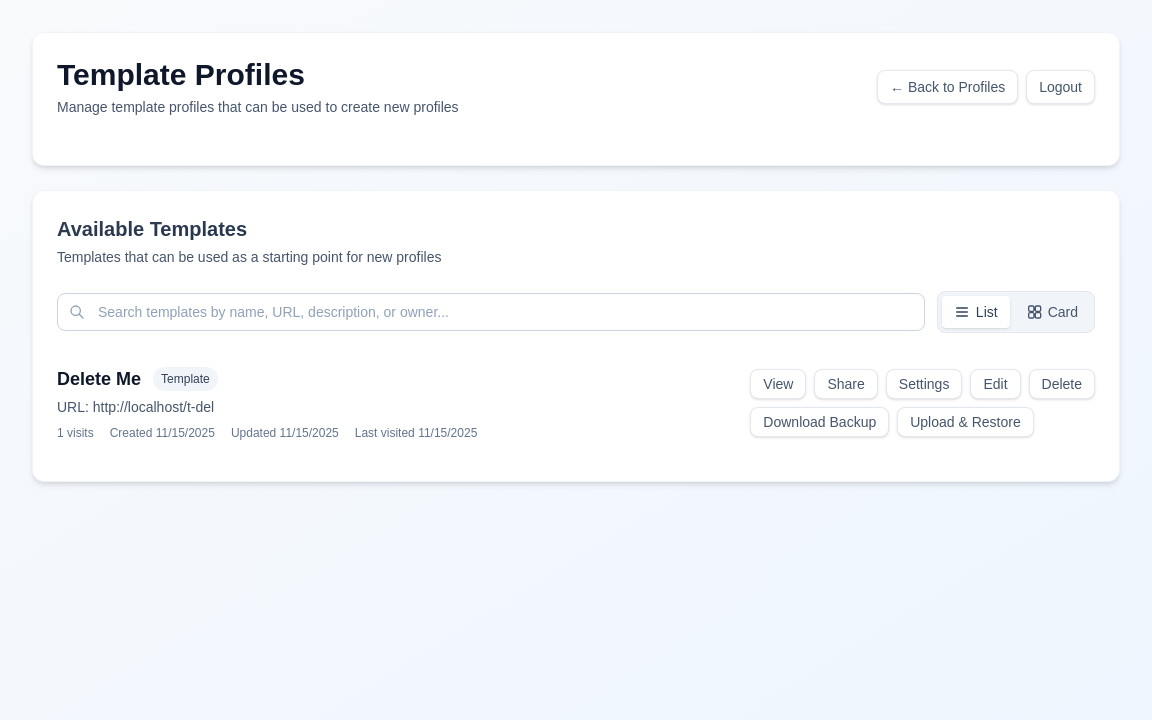
TemplatesPageContent - additional branches › delete flow removes template when confirmed
Check: the heading "Delete Me" is shown, box [57,365,141,393]
// Delete button should exist for admin role
Click the button "Delete" at (1062, 384), box [1028,369,1095,399]
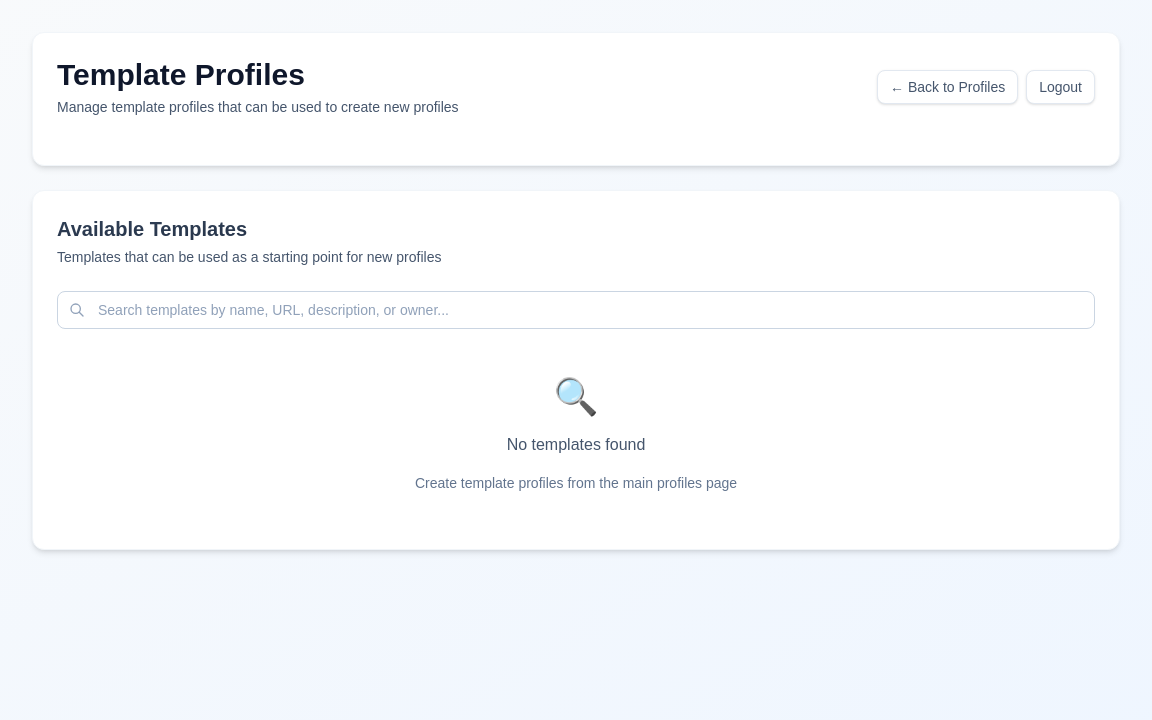
Check: the heading "Delete Me" is gone
